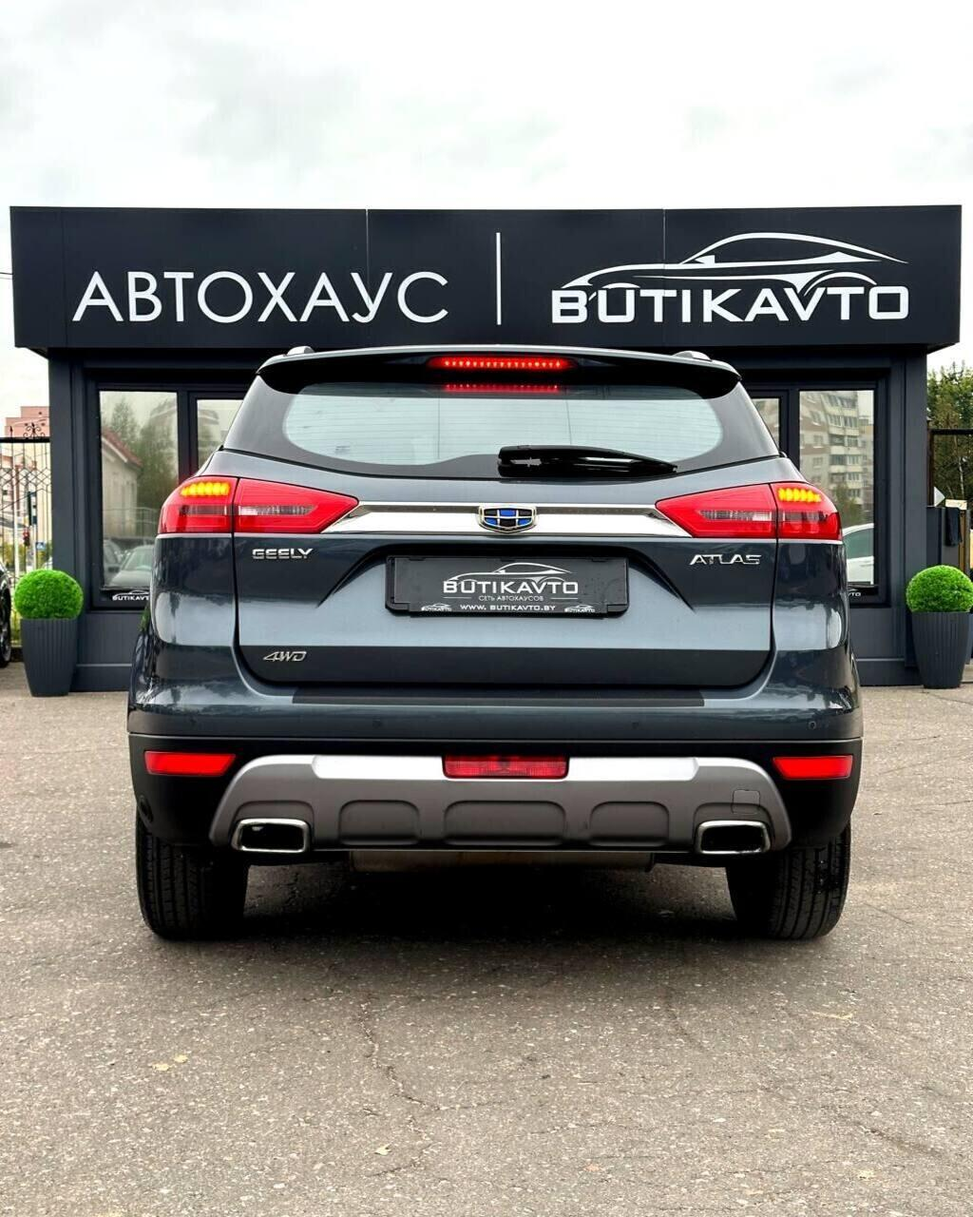Atlas_2016-2023: (127, 336, 858, 959)
